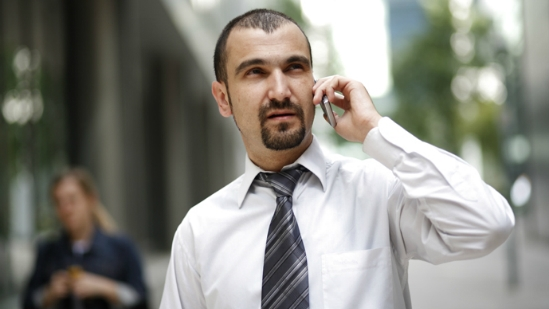phone: (311, 67, 349, 140)
talk: (231, 51, 375, 163)
